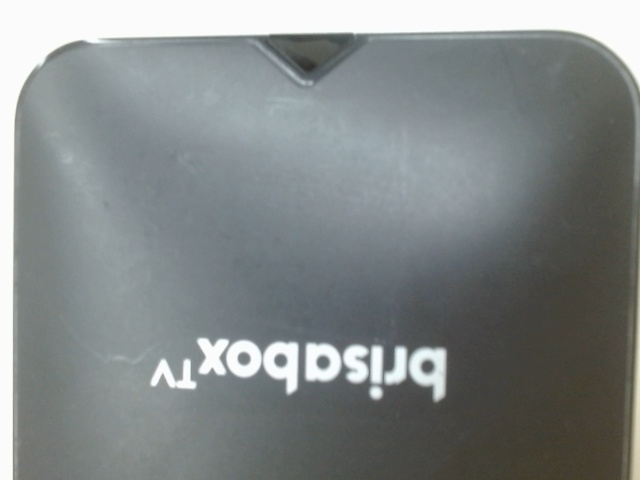AH_brisabox: (133, 321, 463, 412)
